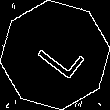L_NW: (26, 28, 84, 82)
